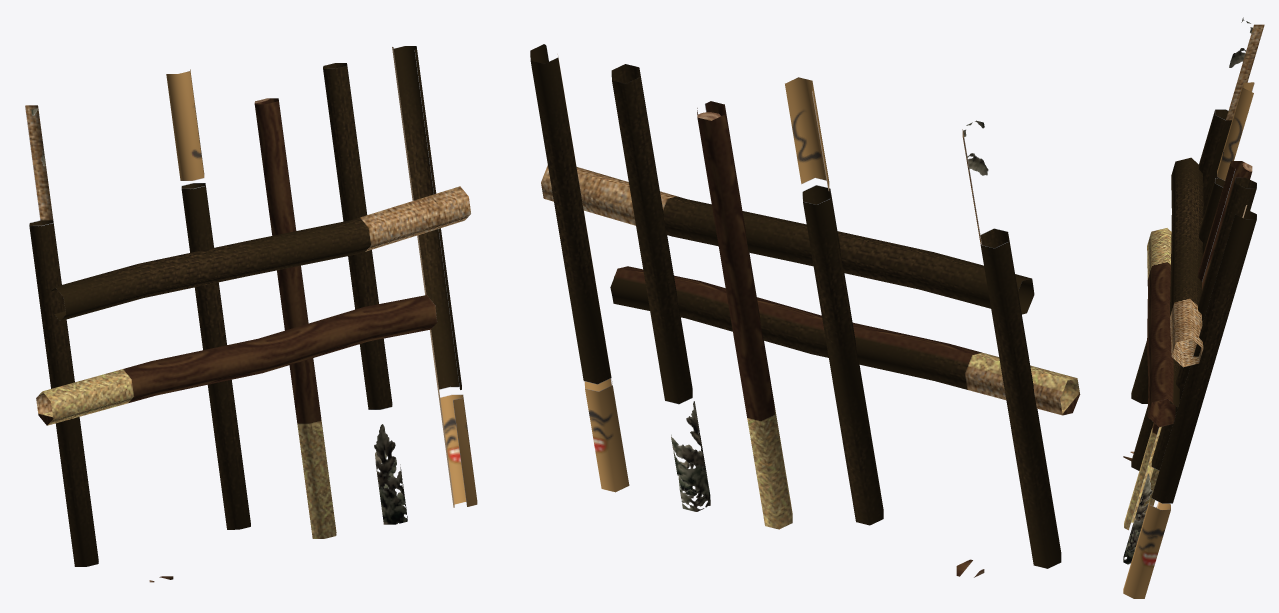
The model's file is wooden_fence02.fbx.
3 views of the same model, side by side, from view 1: azimuth 30°, elevation 25°; view 2: azimuth 150°, elevation 25°; view 3: azimuth 270°, elevation 25° (orthographic). The views are drawn at different scales.
Visible parts, largest first — view 1: wooden_fence02; view 2: wooden_fence02; view 3: wooden_fence02.
Boxes of the visible parts, bbox=[...] form: wooden_fence02: bbox=[25, 46, 477, 582]; wooden_fence02: bbox=[530, 44, 1080, 577]; wooden_fence02: bbox=[1123, 17, 1264, 598].
Size of the model in its own units: 184 by 182 by 56.83.
